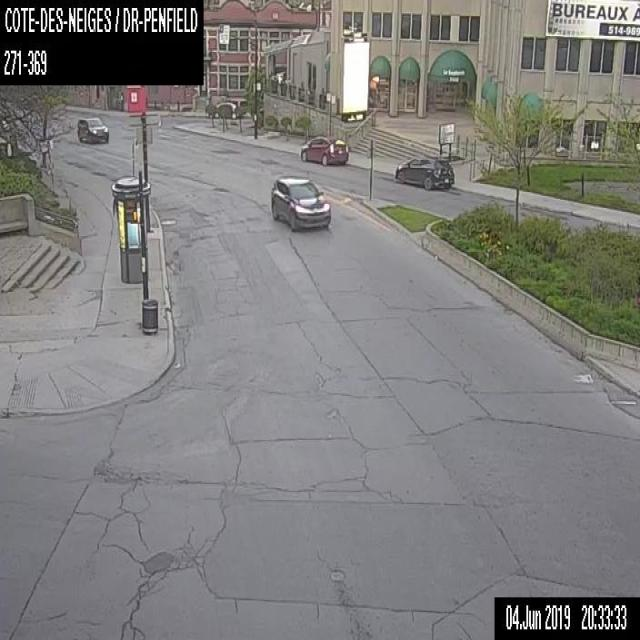vehicle: (270, 173, 330, 230), (394, 154, 455, 190), (299, 133, 349, 164), (76, 115, 108, 143), (210, 99, 238, 117)
